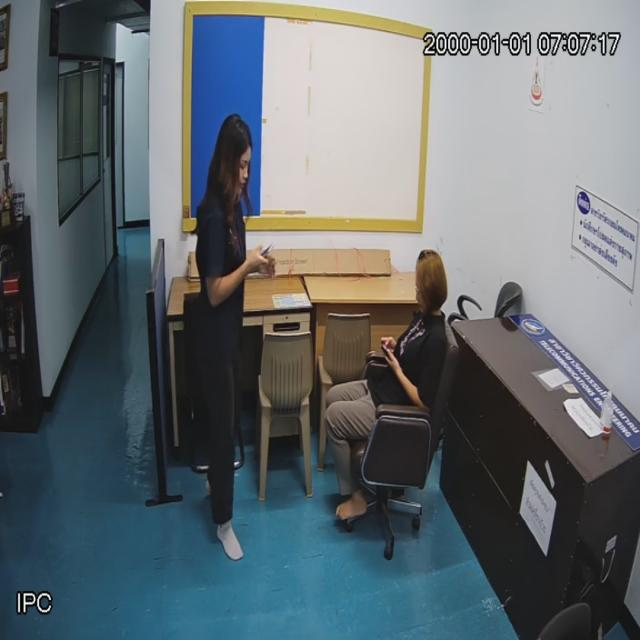normal: (185, 114, 275, 569), (326, 237, 453, 540)
